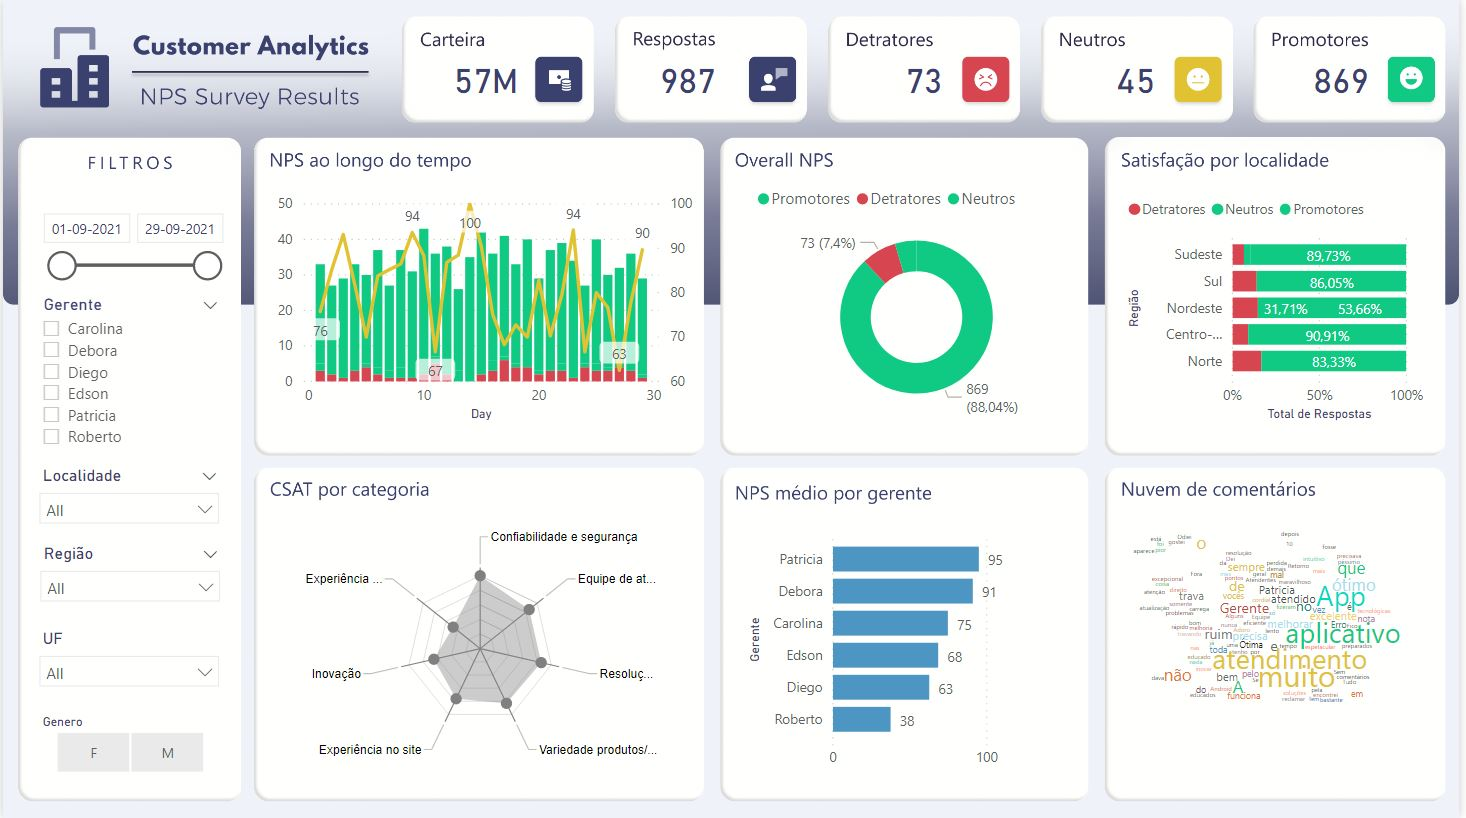

This screenshot's page, from the dashboard's own definition file:
{"tool":"powerbi","page":{"name":"Page 1","canvas":[1280,720],"ordinal":0},"visuals":[{"type":"card","fields":{"Values":["dCadastroClientes.Valor total carteira"]},"box":[363.1,37.8,122.2,64.2],"z":0},{"type":"card","fields":{"Values":["fRespostasCSAT.Total de Respostas"]},"box":[545.9,42.2,111.6,56.3],"z":1000},{"type":"card","fields":{"Values":["fRespostasNPS.Classif_NPS"]},"box":[773.6,45.7,72.1,48.4],"z":2000},{"type":"card","fields":{"Values":["Medidas.Qtd Promotores"]},"box":[1140.2,45.7,72.1,48.4],"z":3000},{"type":"card","fields":{"Values":["Medidas.Qtd Neutros"]},"box":[960,45.7,72.1,48.4],"z":4000},{"type":"lineStackedColumnComboChart","fields":{"Category":["fRespostasNPS.Data Resposta.Variation.Date Hierarchy.Year","fRespostasNPS.Data Resposta.Variation.Date Hierarchy.Quarter","fRespostasNPS.Data Resposta.Variation.Date Hierarchy.Month","fRespostasNPS.Data Resposta.Variation.Date Hierarchy.Day"],"Series":["fRespostasNPS.Classif_NPS"],"Y":["Medidas.Total de Respostas"],"Y2":["Medidas.Indice NPS"]},"box":[236.5,166.2,375.4,209.2],"z":5000},{"type":"donutChart","fields":{"Y":["Medidas.Total de Respostas"],"Series":["fRespostasNPS.Classif_NPS"]},"box":[657.6,155.6,291,218.9],"z":5001},{"type":"hundredPercentStackedBarChart","fields":{"Category":["dRegiões.Região","dRegiões.UF","dRegiões.Localidade"],"Y":["Medidas.Total de Respostas"],"Series":["fRespostasNPS.Classif_NPS"]},"box":[983.7,165.3,269.9,210.1],"z":5002},{"type":"RadarChart1446119667547","fields":{"Category":["fRespostasCSAT.Attribute"],"Y":["fRespostasCSAT.Value"]},"box":[236.5,457.1,365.7,227.7],"z":5003},{"type":"clusteredBarChart","fields":{"Category":["dCadastroClientes.Gerente"],"Y":["Medidas.Indice NPS"]},"box":[650.5,457.1,298,227.7],"z":5004},{"type":"WordCloud1447959067750","fields":{"Category":["fRespostasNPS.Comentários"]},"box":[980.2,457.1,273.4,217.1],"z":5005},{"type":"slicer","fields":{"Values":["fRespostasNPS.Data Resposta"]},"box":[22.9,178.5,177.6,87],"z":5006},{"type":"slicer","fields":{"Values":["dCadastroClientes.Gerente"]},"box":[22.9,255.8,178.5,150.3],"z":5007},{"type":"slicer","fields":{"Values":["dRegiões.Localidade"]},"box":[22,406.2,178.5,74.7],"z":5008},{"type":"slicer","fields":{"Values":["dRegiões.Região"]},"box":[22.9,474.7,178.5,74.7],"z":5009},{"type":"slicer","fields":{"Values":["dRegiões.UF"]},"box":[22,549.5,178.5,74.7],"z":5010},{"type":"slicer","fields":{"Values":["dCadastroClientes.Genero"]},"box":[22,624.2,178.5,61.5],"z":5011}]}

Visuals, with their boxes in screenshot pixels (x1, y1, x2, y2), scaled from the page's 1280x720 canvas onto the 1466x818 screenshot:
card - dCadastroClientes.Valor total carteira: (416,43,556,116)
card - fRespostasCSAT.Total de Respostas: (625,48,753,112)
card - fRespostasNPS.Classif_NPS: (886,52,969,107)
card - Medidas.Qtd Promotores: (1306,52,1388,107)
card - Medidas.Qtd Neutros: (1100,52,1182,107)
lineStackedColumnComboChart - fRespostasNPS.Data Resposta.Variation.Date Hierarchy.Year x fRespostasNPS.Data Resposta.Variation.Date Hierarchy.Quarter: (271,189,701,426)
donutChart - Medidas.Total de Respostas x fRespostasNPS.Classif_NPS: (753,177,1086,425)
hundredPercentStackedBarChart - dRegiões.Região x dRegiões.UF: (1127,188,1436,426)
RadarChart1446119667547 - fRespostasCSAT.Attribute x fRespostasCSAT.Value: (271,519,690,778)
clusteredBarChart - dCadastroClientes.Gerente x Medidas.Indice NPS: (745,519,1086,778)
WordCloud1447959067750 - fRespostasNPS.Comentários: (1123,519,1436,766)
slicer - fRespostasNPS.Data Resposta: (26,203,230,302)
slicer - dCadastroClientes.Gerente: (26,291,231,461)
slicer - dRegiões.Localidade: (25,461,230,546)
slicer - dRegiões.Região: (26,539,231,624)
slicer - dRegiões.UF: (25,624,230,709)
slicer - dCadastroClientes.Genero: (25,709,230,779)
